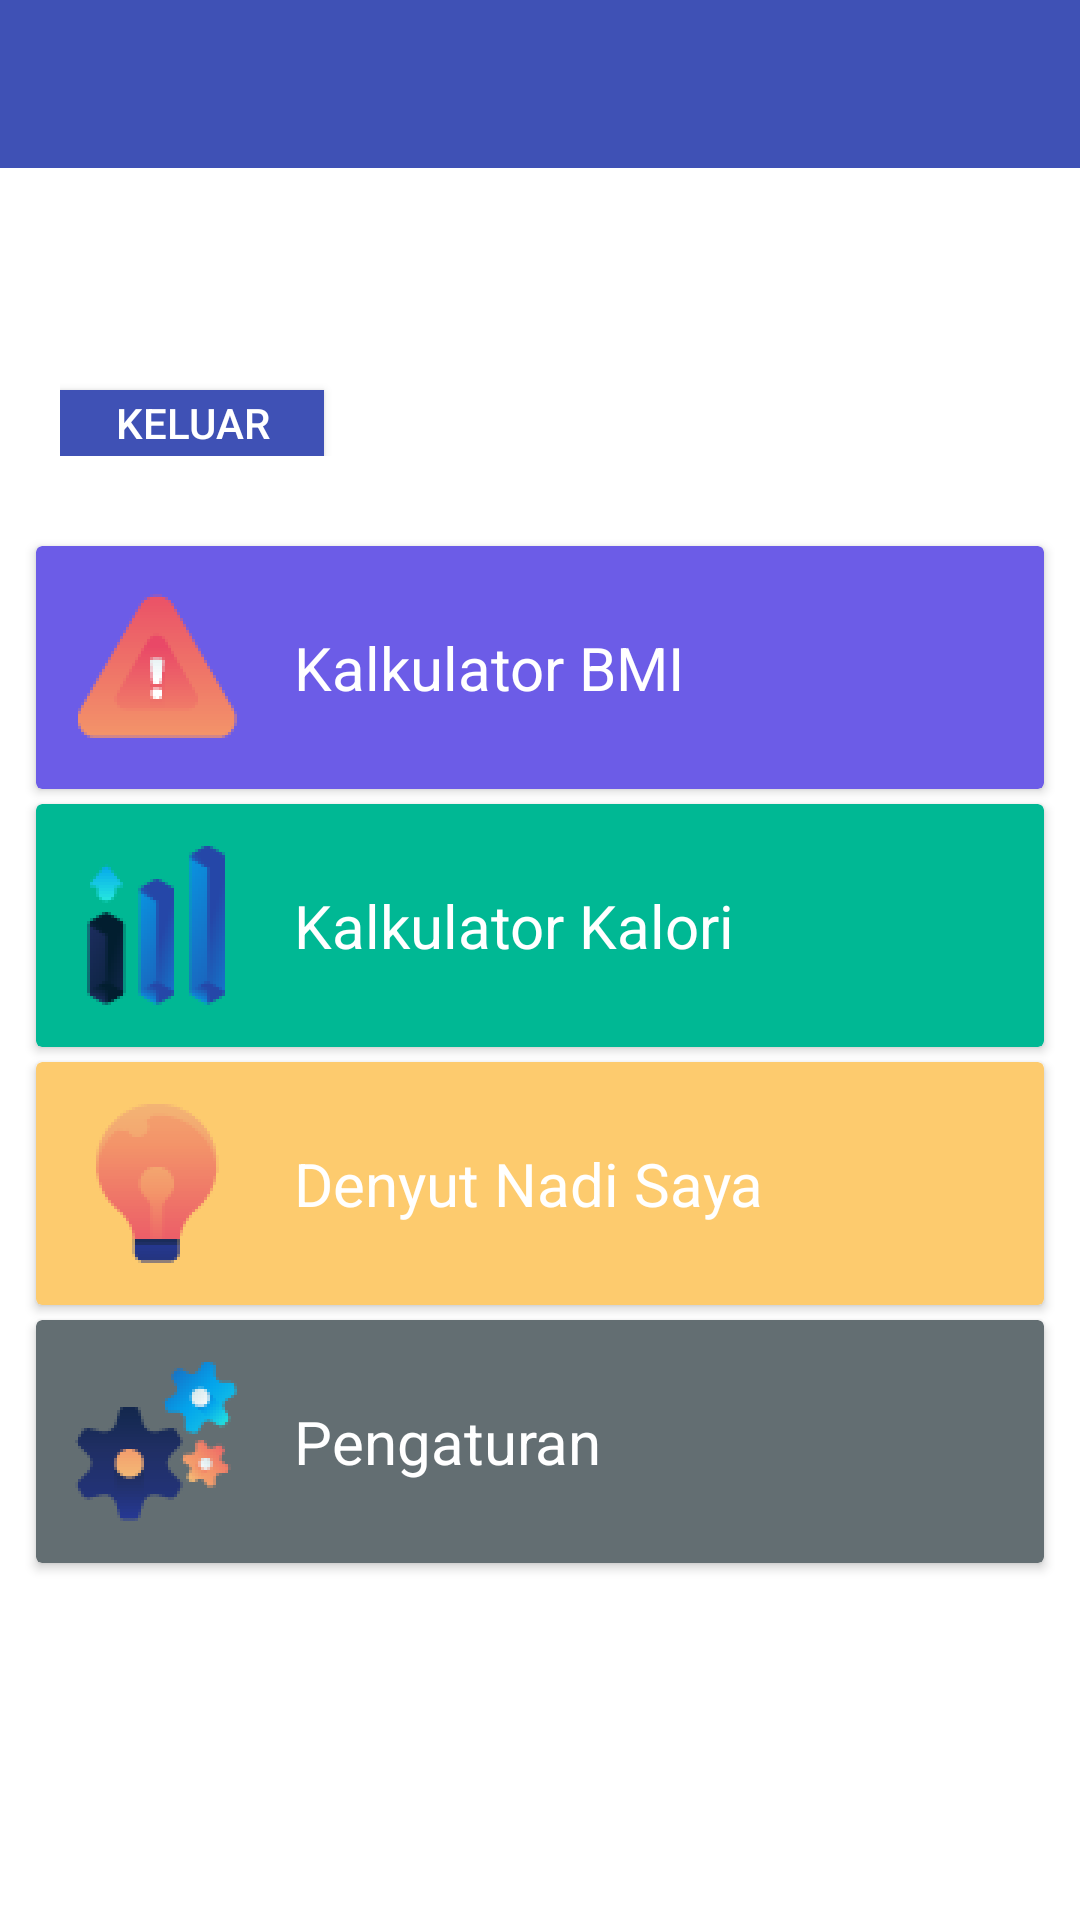

Where icons sit on this 1080px×1920px app screen, as (x1, y1, x2, y2):
chart: (87, 846, 225, 1005)
danger: (78, 594, 237, 738)
lamp: (96, 1107, 216, 1263)
settings: (78, 1362, 237, 1521)
